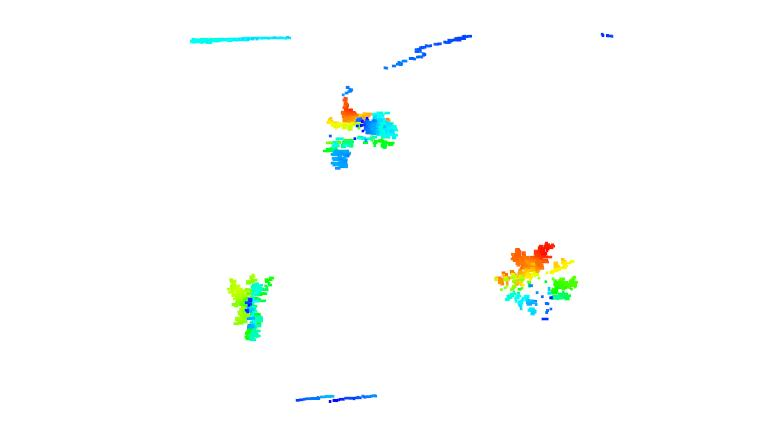chickpea: (489, 237, 581, 321), (316, 91, 402, 172), (223, 265, 273, 344)
